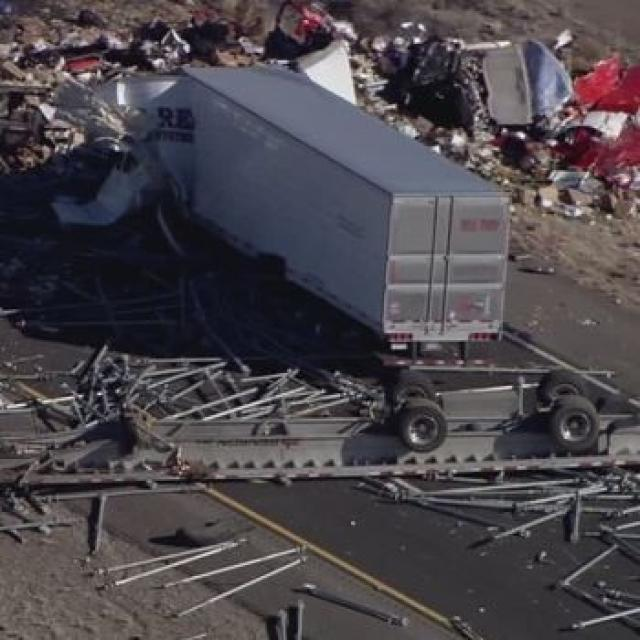traffic_incident: (39, 18, 542, 410)
